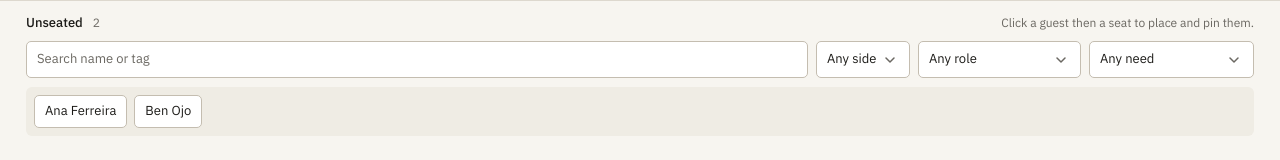
Test case: UnseatedRail — one action clears every filter › appears once a filter narrows the search, carries no data-guest-id, and restores every row when used
Type "Ana" into the dropdown labelled "Search name or tag". click: (417, 60)
box: [26,41,808,78]
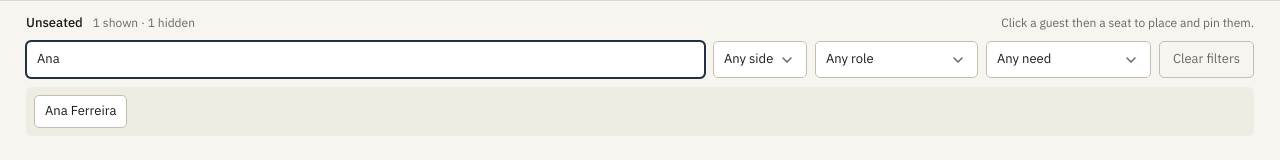
Now the button "Ben Ojo" is gone
Click the button "Clear filters". click: (1206, 60)
box: [1159,41,1254,78]
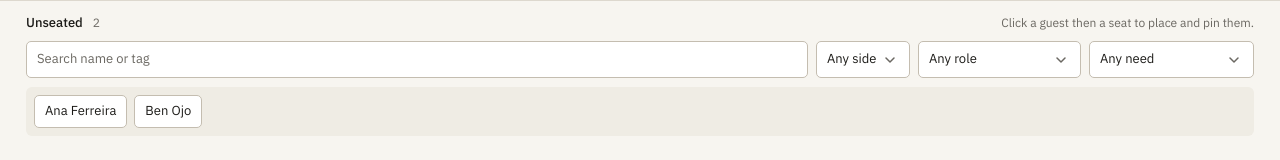
Now the button "Ben Ojo" is shown, box [134,95,202,128]
Now the button "Clear filters" is gone
Now the dropdown labelled "Search name or tag" is empty, box [26,41,808,78]
